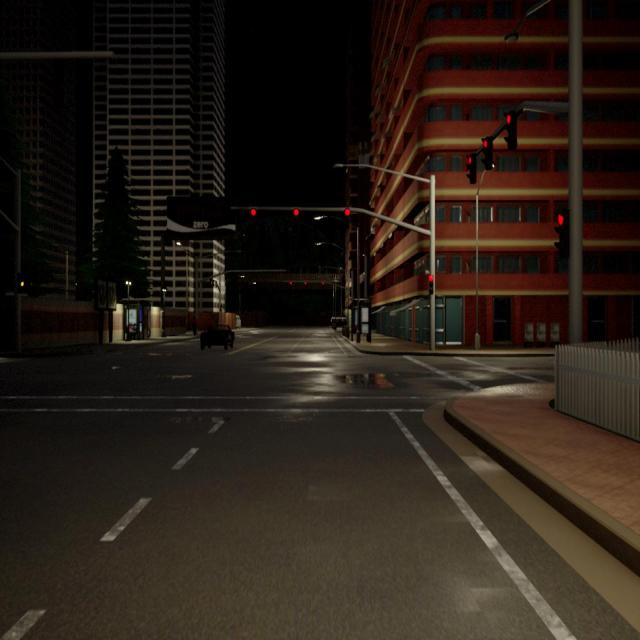Vehicle: (200, 324, 234, 351), (331, 317, 347, 330)
traffic_light: (554, 209, 570, 261), (503, 112, 518, 151), (481, 137, 493, 170), (466, 153, 477, 185), (18, 273, 24, 292), (428, 275, 433, 294), (250, 208, 257, 217), (293, 207, 299, 217), (344, 207, 350, 216), (304, 280, 307, 286), (322, 280, 324, 285), (290, 281, 292, 285)
